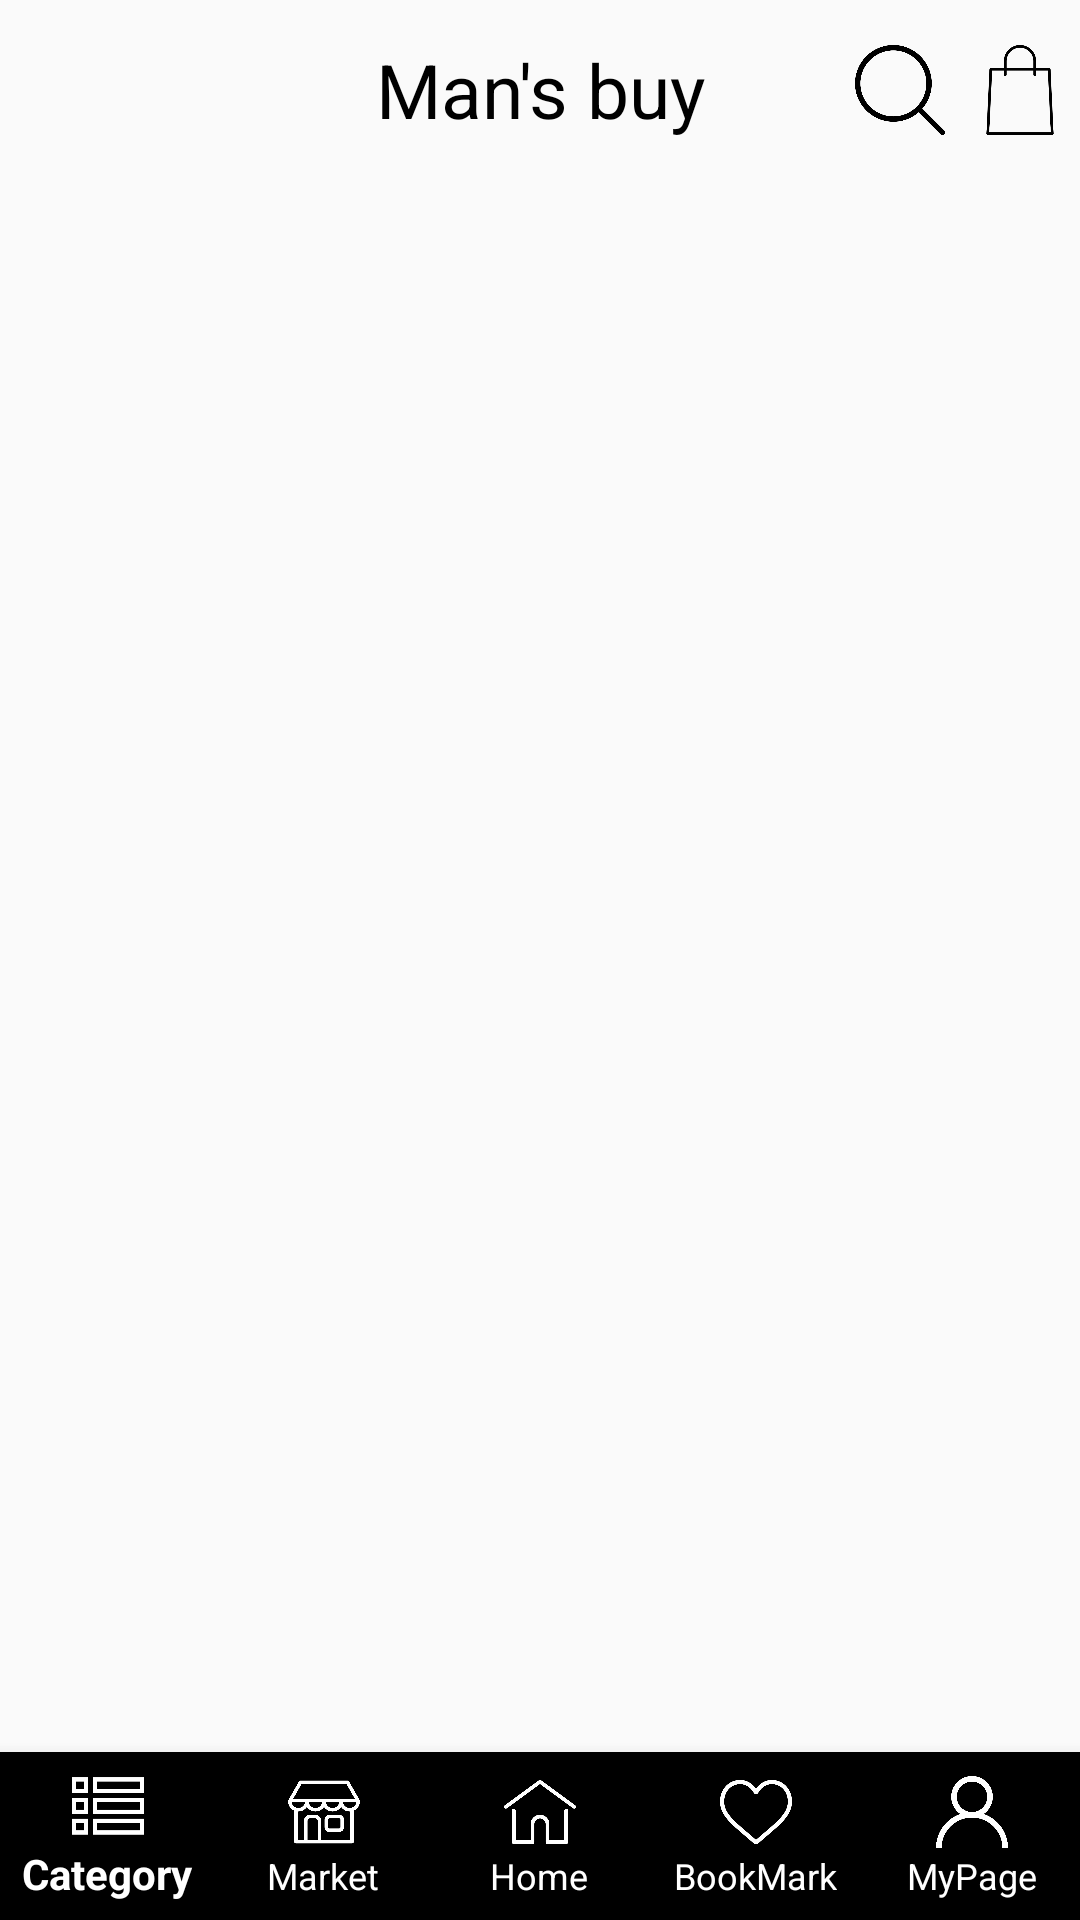

Named icons in this screenshot (1080*1920) and their centers, [x,y]:
search: [900,90]
shoppingcart: [1020,90]
